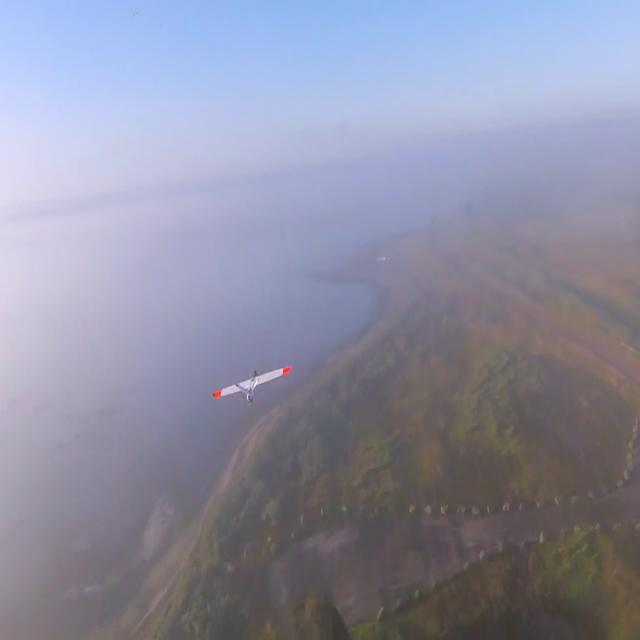iha: (245, 362, 263, 409)
